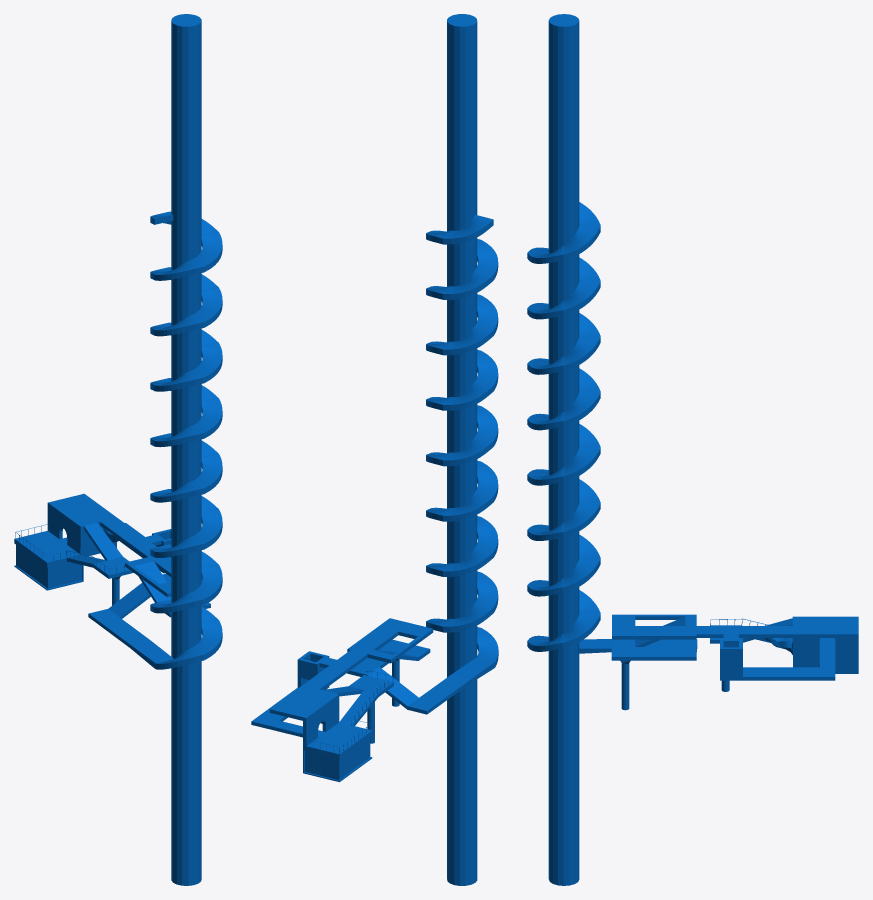
Rendered from Proto_SS_W1_HP.obj.
The picture shows the model from 3 angles, left to right: view 1: azimuth 30°, elevation 25°; view 2: azimuth 150°, elevation 25°; view 3: azimuth 270°, elevation 25°; orthographic projection.
Visible parts, largest first — view 1: LevelBase; view 2: LevelBase; view 3: LevelBase.
Part boxes in pixels (x1,y1,x2,y2): LevelBase: (14,14,222,885); LevelBase: (251,14,498,885); LevelBase: (527,14,858,885).
Size of the model in its own units: 32.13 by 246 by 86.08.
